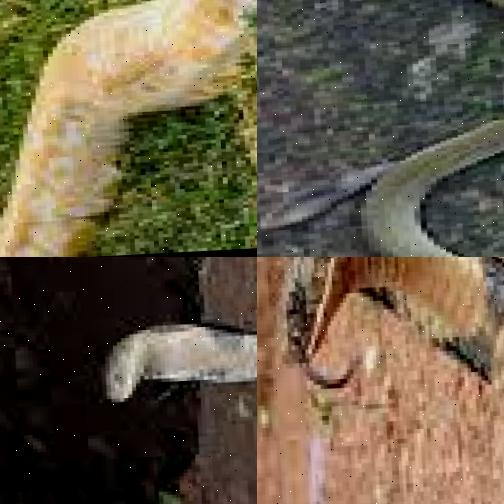snake: (0, 0, 257, 257), (257, 0, 504, 257), (267, 257, 504, 495), (75, 257, 257, 470)
